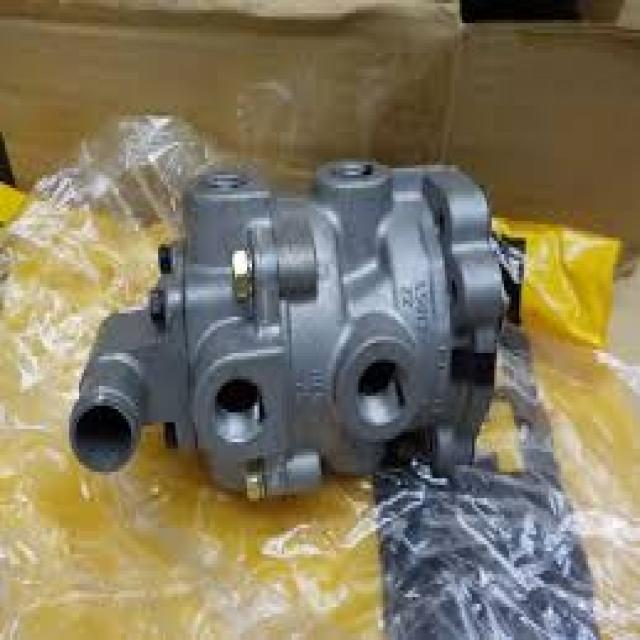video_frame: (68, 158, 528, 506)
